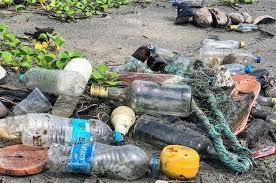glass: (88, 79, 195, 118), (108, 104, 137, 140), (197, 37, 248, 53), (228, 21, 260, 33)
kitchen_waste: (161, 144, 205, 178), (191, 5, 230, 31), (229, 11, 245, 23)
plastic: (43, 141, 161, 179), (18, 113, 124, 147), (17, 67, 88, 96), (11, 85, 54, 116), (196, 48, 265, 66), (221, 62, 253, 77)
